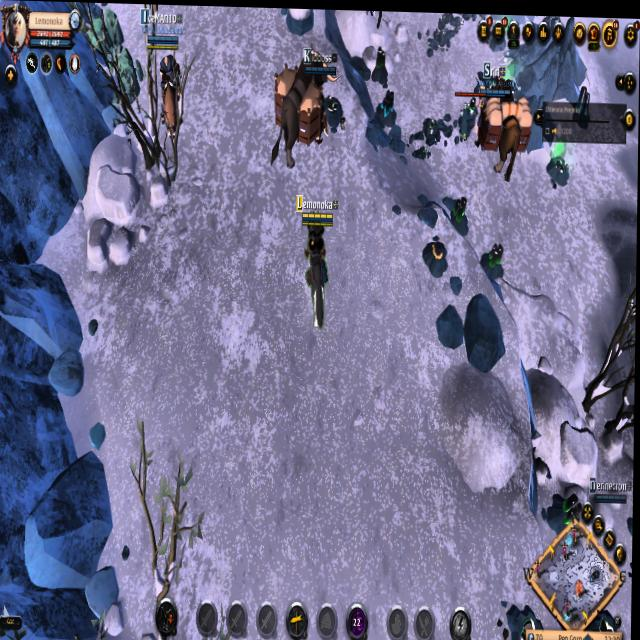ore tier 2: (421, 229, 451, 279)
ore tier 3: (480, 237, 508, 280), (450, 190, 471, 234), (371, 44, 391, 85)
ore tier 4: (374, 85, 399, 127)
